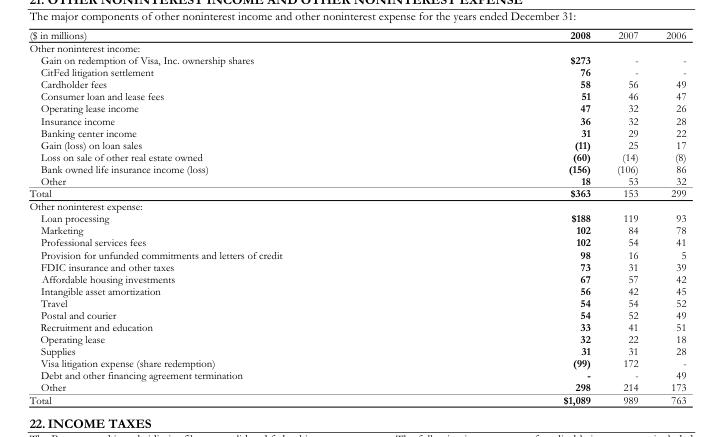table: (28, 28, 685, 405)
table column: (28, 28, 422, 405), (422, 28, 603, 405), (603, 28, 651, 405), (651, 28, 685, 405)
table column header: (28, 28, 685, 41)
table projected row header: (28, 199, 685, 212), (28, 41, 685, 53)
table row: (28, 28, 685, 41), (28, 65, 685, 78), (28, 186, 685, 199), (28, 199, 685, 212), (28, 344, 685, 357), (28, 41, 685, 53), (28, 53, 685, 65), (28, 78, 685, 90), (28, 90, 685, 102), (28, 102, 685, 114), (28, 114, 685, 126), (28, 126, 685, 138), (28, 138, 685, 150), (28, 150, 685, 162), (28, 162, 685, 174), (28, 174, 685, 186), (28, 212, 685, 224), (28, 224, 685, 236), (28, 236, 685, 248), (28, 248, 685, 260), (28, 260, 685, 272), (28, 272, 685, 284), (28, 284, 685, 296), (28, 296, 685, 308), (28, 308, 685, 320), (28, 320, 685, 332), (28, 332, 685, 344), (28, 357, 685, 369), (28, 369, 685, 381), (28, 381, 685, 393), (28, 393, 685, 405)
